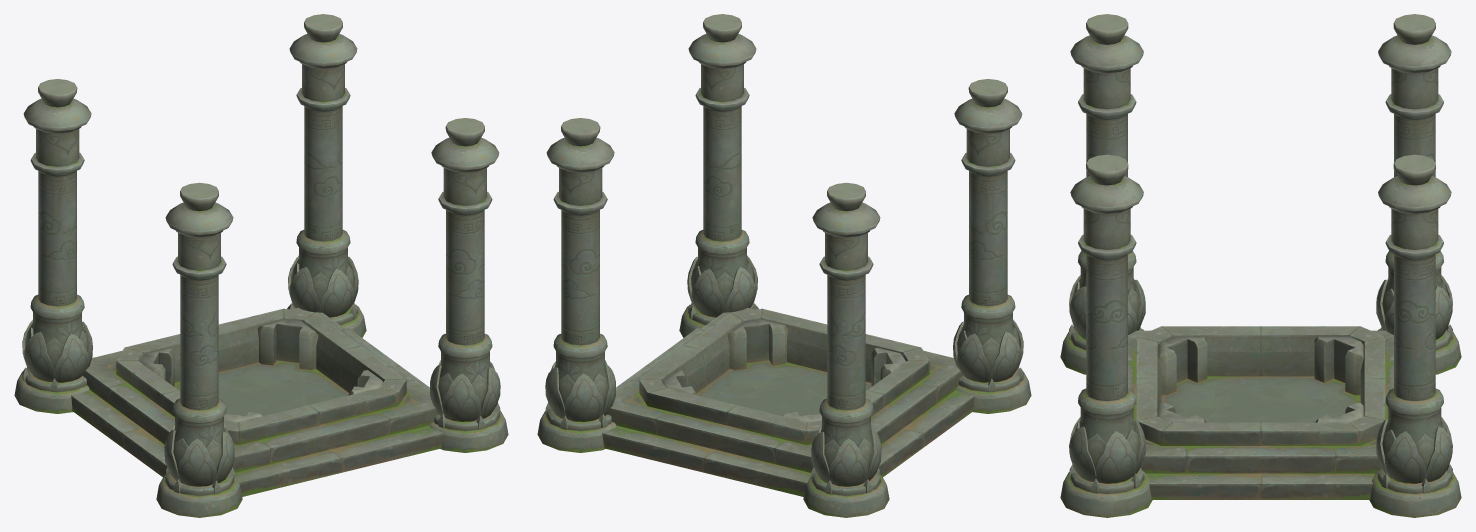
Rendered from Homeworld_Exterior_Ly_Build_Lift_01_Lod0.fbx.
The picture shows the model from 3 angles, left to right: view 1: azimuth 30°, elevation 25°; view 2: azimuth 150°, elevation 25°; view 3: azimuth 270°, elevation 25°; orthographic projection. The views are drawn at different scales.
Parts seen in each view (by area): view 1: Homeworld_Exterior_Ly_Build_Lift_01_Lod0; view 2: Homeworld_Exterior_Ly_Build_Lift_01_Lod0; view 3: Homeworld_Exterior_Ly_Build_Lift_01_Lod0.
Boxes of the visible parts, box(x1,y1,x2,y2) form: Homeworld_Exterior_Ly_Build_Lift_01_Lod0: box(14, 14, 508, 517); Homeworld_Exterior_Ly_Build_Lift_01_Lod0: box(537, 14, 1031, 517); Homeworld_Exterior_Ly_Build_Lift_01_Lod0: box(1060, 14, 1461, 517).
Bounding box in the file's own units: 3.82 × 3.29 × 3.58.
Materials: 1 (1 with a texture image).
